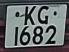1: (12, 26, 21, 49)
2: (43, 24, 59, 46)
6: (19, 25, 33, 47)
8: (32, 25, 46, 46)
G: (36, 5, 51, 27)
K: (25, 5, 37, 28)
